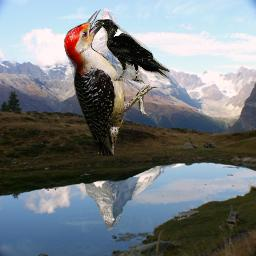Crow: (94, 19, 170, 84)
Woodpecker: (64, 9, 160, 156)
